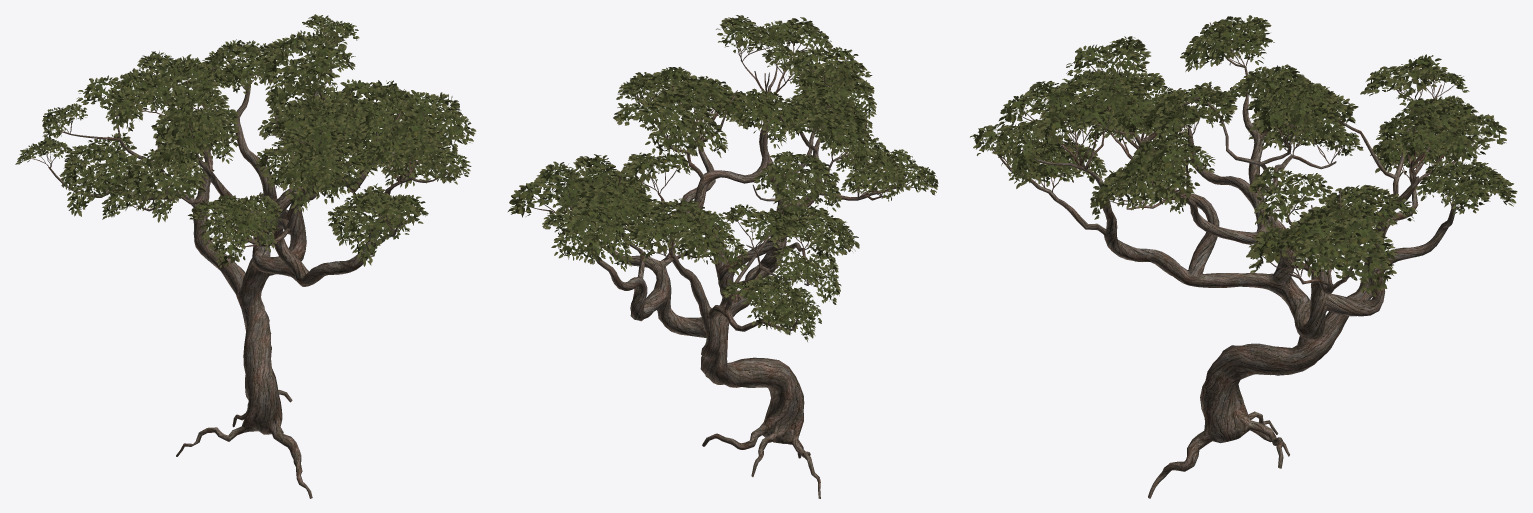
Rendered from old-tree.glb.
The picture shows the model from 3 angles, left to right: view 1: azimuth 30°, elevation 25°; view 2: azimuth 150°, elevation 25°; view 3: azimuth 270°, elevation 25°; orthographic projection. The views are drawn at different scales.
Parts seen in each view (by area): view 1: old tree; view 2: old tree; view 3: old tree.
Part boxes in pixels (left/top/right/bottom): old tree: left=15, top=14, right=476, bottom=498; old tree: left=508, top=15, right=938, bottom=498; old tree: left=970, top=15, right=1517, bottom=498.
Size of the model in its own units: 5.68 by 6.32 by 6.85.
Materials: 3 (3 with a texture image).
